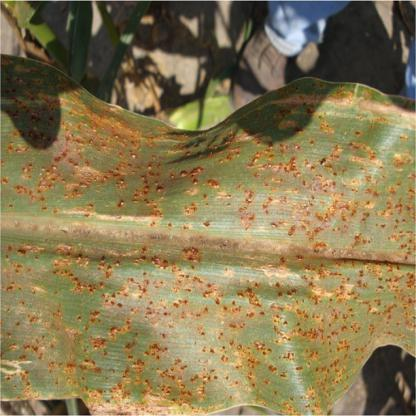corn rust leaf: (1, 51, 415, 415)
